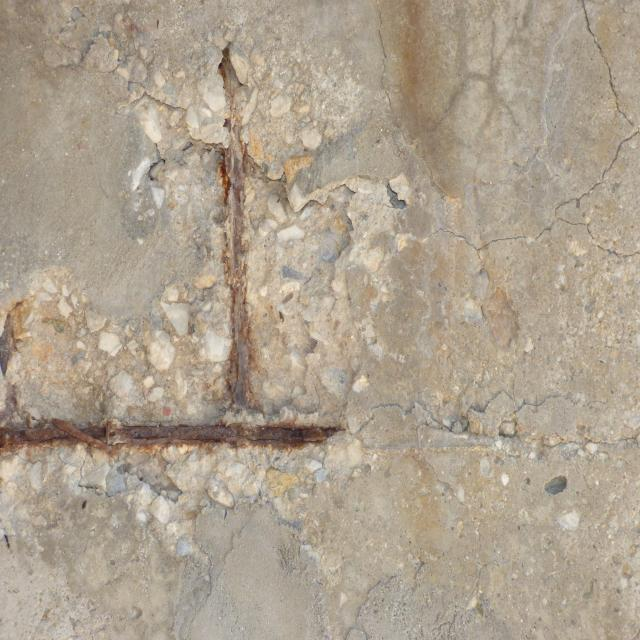corrosion: (0, 34, 375, 489)
